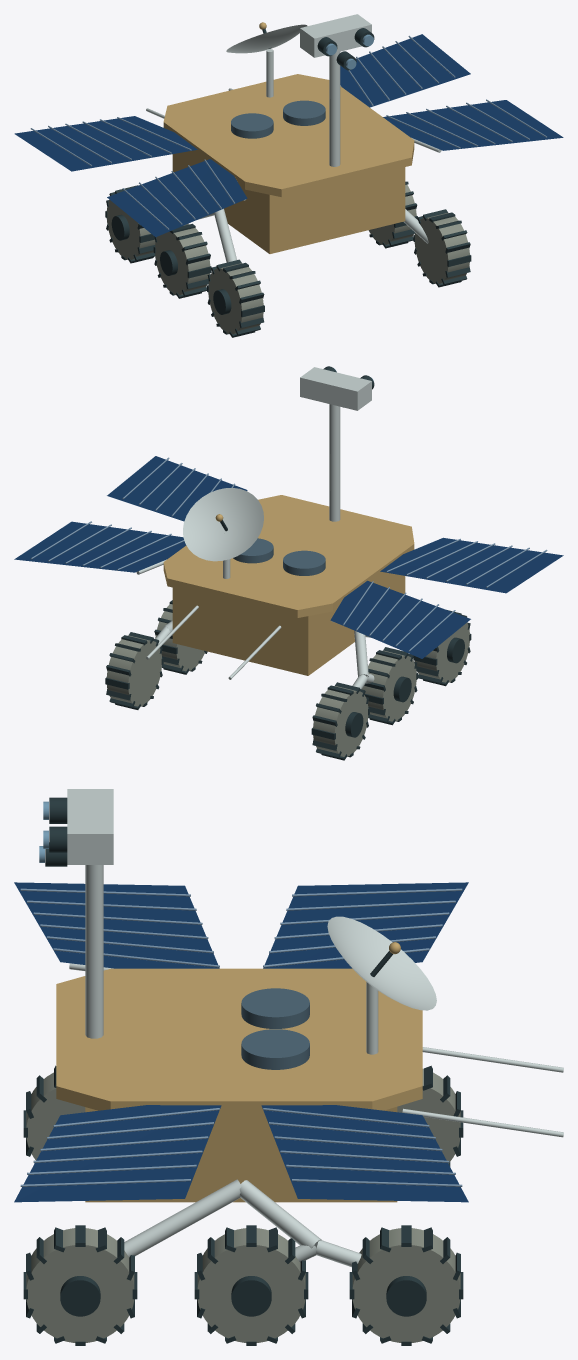
File: zhurong.glb
The picture shows the model from 3 angles, top to bottom: view 1: azimuth 30°, elevation 25°; view 2: azimuth 150°, elevation 25°; view 3: azimuth 270°, elevation 25°; orthographic projection. The views are drawn at different scales.
Parts seen in each view (by area): view 1: butterfly-solar-wing (×4), near-octagonal-upper-deck, Zhurong-gold-body, Zhurong-wheel (×5), solar, solar-thermal-collector-window (×2), frame, forward-mast, rear-high-gain-antenna, wheels, instruments, antenna; view 2: butterfly-solar-wing (×4), near-octagonal-upper-deck, Zhurong-gold-body, Zhurong-wheel (×5), rear-high-gain-antenna, solar, frame, solar-thermal-collector-window (×2), forward-mast, wheels; view 3: butterfly-solar-wing (×4), near-octagonal-upper-deck, Zhurong-wheel (×5), solar, Zhurong-gold-body, wheels, rear-high-gain-antenna, solar-thermal-collector-window (×2), wheel-hub (×3), frame, forward-mast, subsurface-radar-antenna (×2) (+2 smaller).
Boxes of the visible parts, bbox=[...] form: butterfly-solar-wing (×4): bbox=[14, 34, 563, 237]; near-octagonal-upper-deck: bbox=[163, 74, 414, 196]; Zhurong-gold-body: bbox=[172, 151, 405, 253]; Zhurong-wheel (×5): bbox=[106, 184, 469, 334]; solar: bbox=[30, 35, 546, 229]; solar-thermal-collector-window (×2): bbox=[231, 100, 325, 138]; frame: bbox=[300, 14, 371, 57]; forward-mast: bbox=[329, 52, 340, 166]; rear-high-gain-antenna: bbox=[226, 24, 307, 53]; wheels: bbox=[197, 208, 428, 262]; instruments: bbox=[317, 28, 374, 70]; antenna: bbox=[259, 22, 273, 97]; butterfly-solar-wing (×4): bbox=[14, 456, 563, 658]; near-octagonal-upper-deck: bbox=[163, 495, 414, 617]; Zhurong-gold-body: bbox=[172, 572, 405, 675]; Zhurong-wheel (×5): bbox=[106, 604, 469, 756]; rear-high-gain-antenna: bbox=[183, 488, 263, 561]; solar: bbox=[30, 457, 547, 651]; frame: bbox=[300, 367, 371, 410]; solar-thermal-collector-window (×2): bbox=[233, 538, 325, 575]; forward-mast: bbox=[329, 404, 340, 521]; wheels: bbox=[155, 620, 374, 689]; butterfly-solar-wing (×4): bbox=[14, 882, 468, 1202]; near-octagonal-upper-deck: bbox=[56, 968, 422, 1114]; Zhurong-wheel (×5): bbox=[26, 1068, 460, 1342]; solar: bbox=[20, 888, 462, 1186]; Zhurong-gold-body: bbox=[85, 1107, 397, 1202]; wheels: bbox=[124, 1179, 361, 1267]; rear-high-gain-antenna: bbox=[327, 916, 436, 1010]; solar-thermal-collector-window (×2): bbox=[241, 988, 309, 1069]; wheel-hub (×3): bbox=[60, 1276, 426, 1316]; frame: bbox=[67, 789, 113, 864]; forward-mast: bbox=[85, 865, 103, 1038]; subsurface-radar-antenna (×2): bbox=[402, 1047, 563, 1137].
Size of the model in its own units: 3.76 by 2.44 by 2.73.
